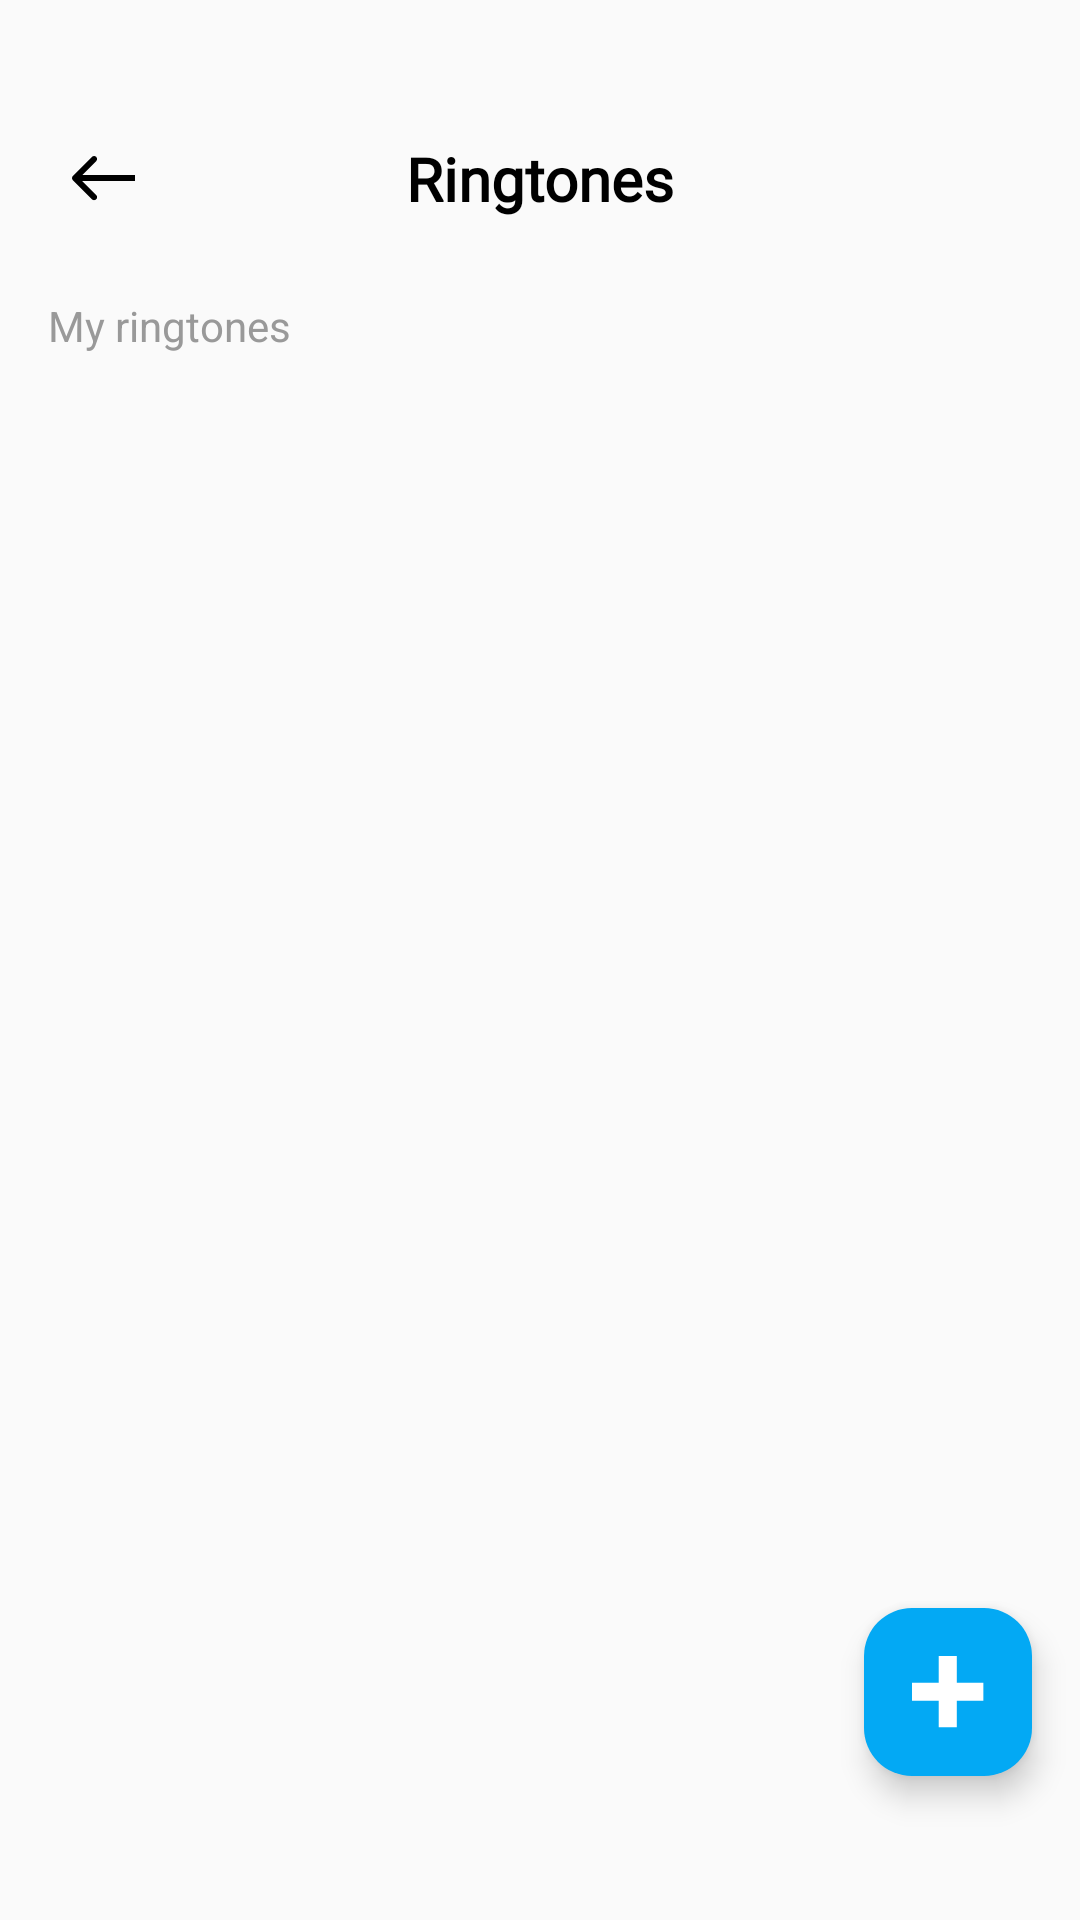

Screen size 1080w x 1920h. Icon name, then its box in pixels as (left=x1, top=y1, right=x2, bottom=y2):
Add Ringtone: (left=864, top=1608, right=1032, bottom=1776)
Back: (left=72, top=156, right=135, bottom=200)
